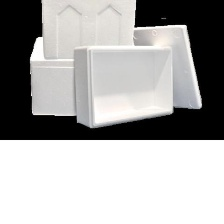foam_box: (69, 41, 177, 131), (132, 19, 205, 114), (36, 0, 140, 63), (25, 33, 80, 120)
